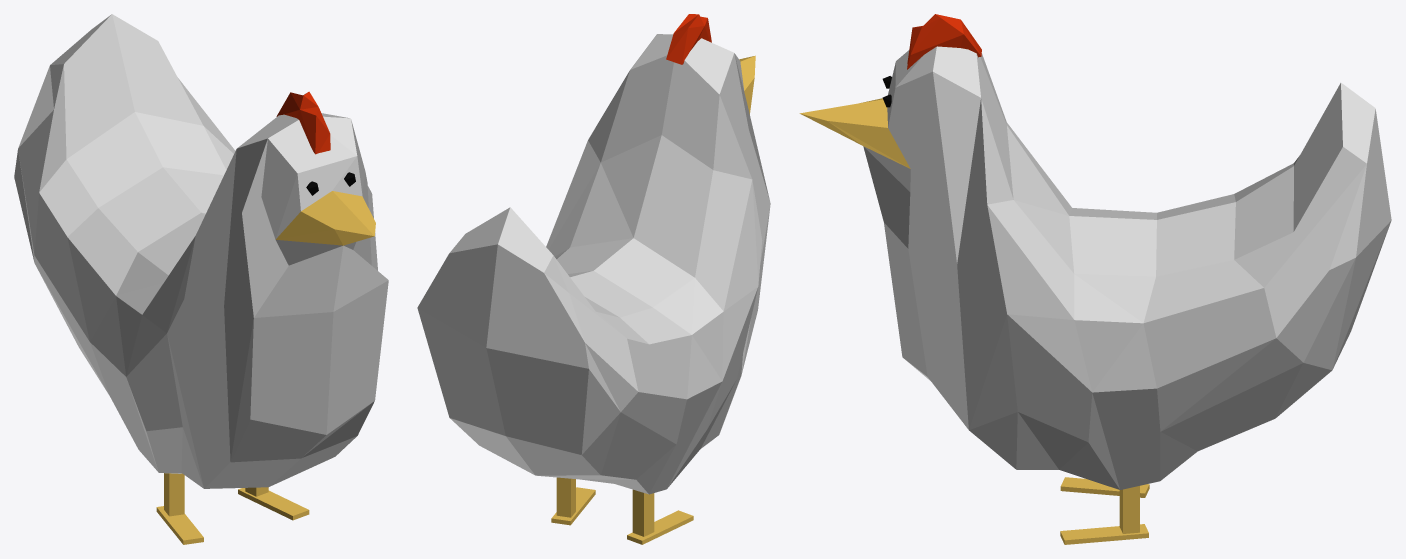
Rendered from chicken.fbx.
3 renders of one model, left to right at view 1: azimuth 30°, elevation 25°; view 2: azimuth 150°, elevation 25°; view 3: azimuth 270°, elevation 25°, orthographic. The views are drawn at different scales.
Parts seen in each view (by area): view 1: Plane, Plane.001, Cube.001, Cube.003, Cube.002; view 2: Plane, Plane.001, Cube.003, Cube.002, Cube, Cube.001; view 3: Plane, Plane.001, Cube.001, Cube, Cube.002.
Boxes of the visible parts, x1,y1,x2,y2 form: Plane: [14, 14, 388, 488]; Plane.001: [276, 91, 330, 154]; Cube.001: [238, 488, 309, 520]; Cube.003: [164, 473, 184, 516]; Cube.002: [156, 506, 203, 544]; Plane: [417, 34, 770, 494]; Plane.001: [666, 14, 711, 64]; Cube.003: [632, 489, 654, 536]; Cube.002: [627, 510, 693, 544]; Cube: [556, 477, 575, 517]; Cube.001: [551, 487, 595, 525]; Plane: [799, 46, 1391, 489]; Plane.001: [907, 14, 981, 69]; Cube.001: [1060, 524, 1148, 544]; Cube: [1119, 486, 1139, 533]; Cube.002: [1060, 477, 1149, 497].
Bounding box in the file's own units: 381 × 819 × 885.
